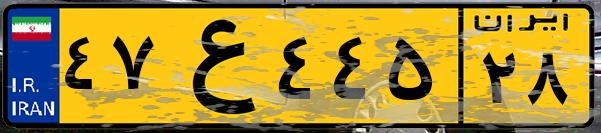2: (475, 38, 525, 113)
4: (270, 28, 330, 110), (330, 28, 385, 110), (57, 26, 110, 100)
5: (385, 28, 445, 110)
7: (110, 28, 158, 98)
8: (525, 38, 570, 115)
ع: (158, 12, 270, 120)
